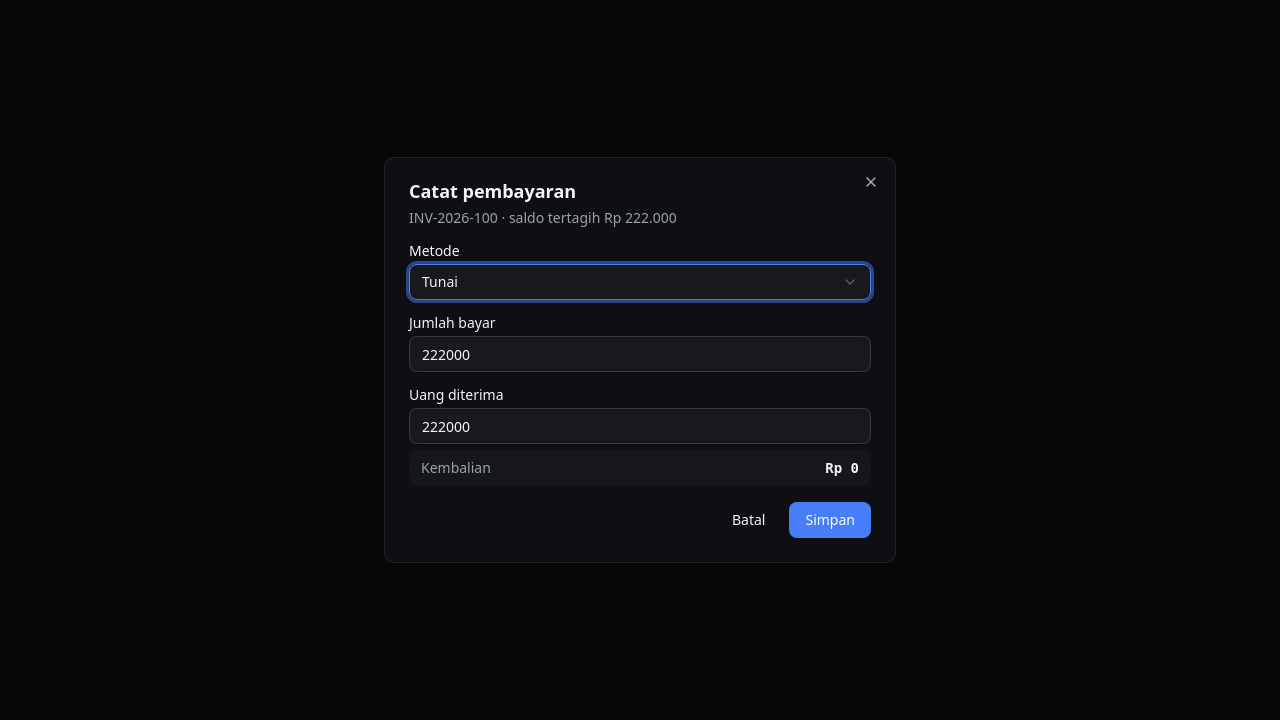
Test case: LoketPayDialog › blocks an overpayment above the balance
Replace the text in the number field labelled "Jumlah bayar" with "300000" at (640, 354), box [409,336,871,372]
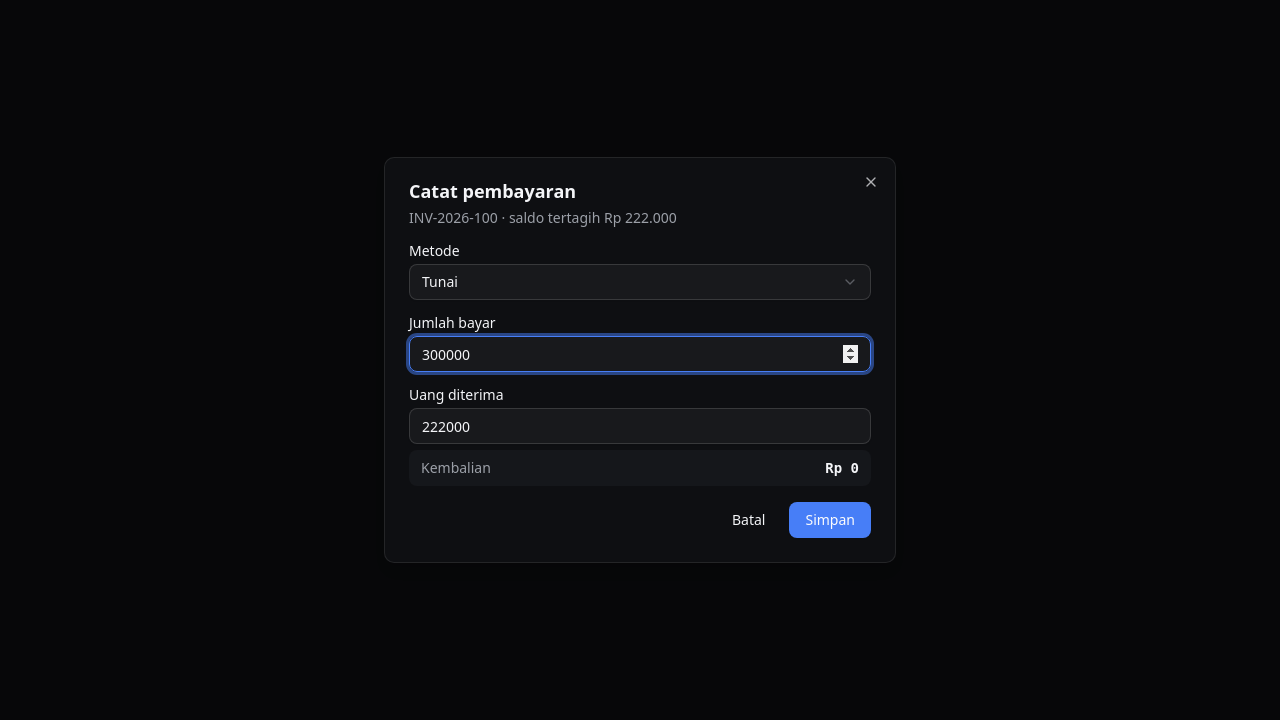
Click the button "Simpan" at (830, 520), box [790,502,871,538]
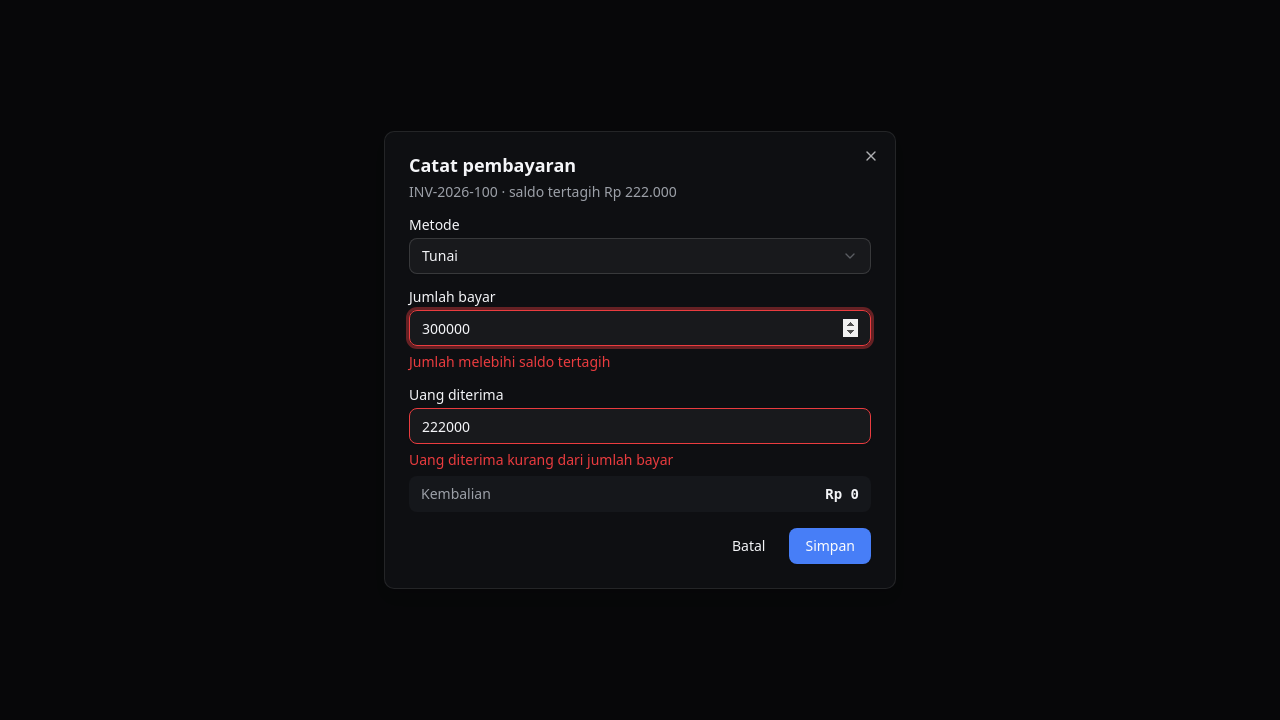
expect the text "Jumlah melebihi saldo tertagih" is shown: met, box [409,352,610,371]
